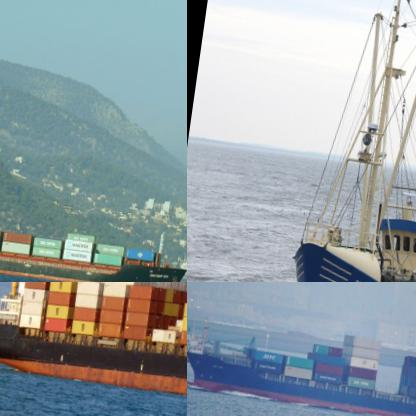Fishing Boat: (281, 0, 415, 281), (187, 311, 216, 363)
Merchant Ship: (187, 282, 415, 415), (0, 282, 186, 415), (0, 159, 186, 281)
